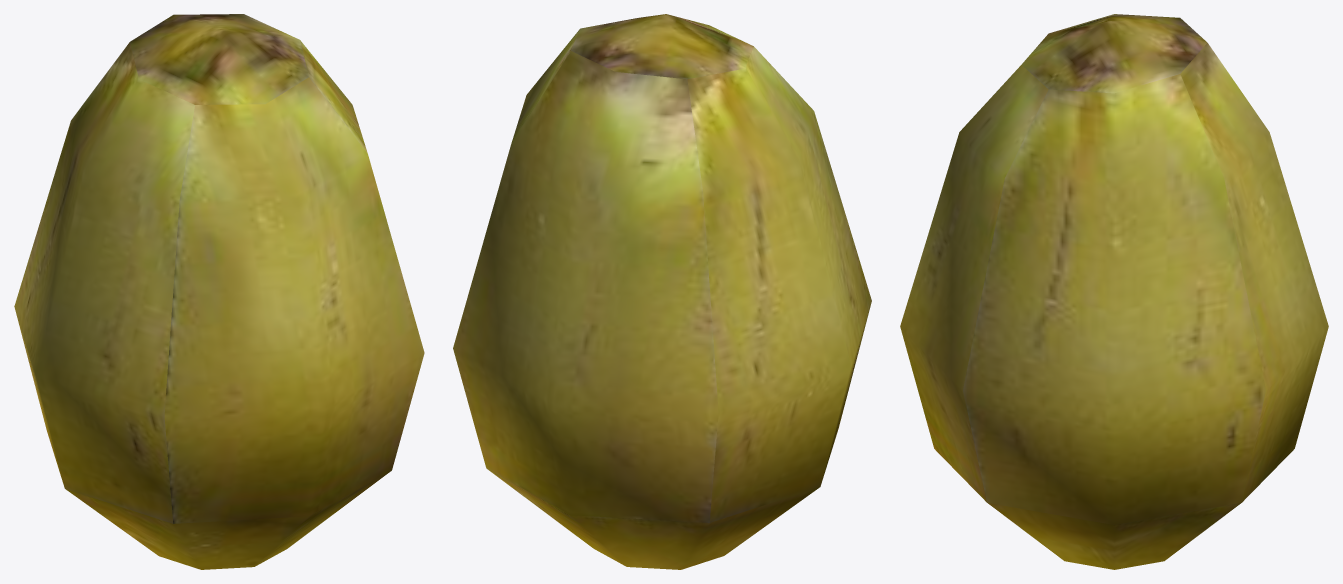
The model's file is Coconut.glb.
3 views of the same model, side by side, from view 1: azimuth 30°, elevation 25°; view 2: azimuth 150°, elevation 25°; view 3: azimuth 270°, elevation 25° (orthographic). The views are drawn at different scales.
Visible parts, largest first — view 1: Coconut; view 2: Coconut; view 3: Coconut.
Boxes of the visible parts, x1,y1,x2,y2 form: Coconut: (14,14,424,569); Coconut: (453,14,871,569); Coconut: (900,14,1328,569).
Bounding box in the file's own units: 0.2397 × 0.3195 × 0.2396.
1 material, 1 textured.
